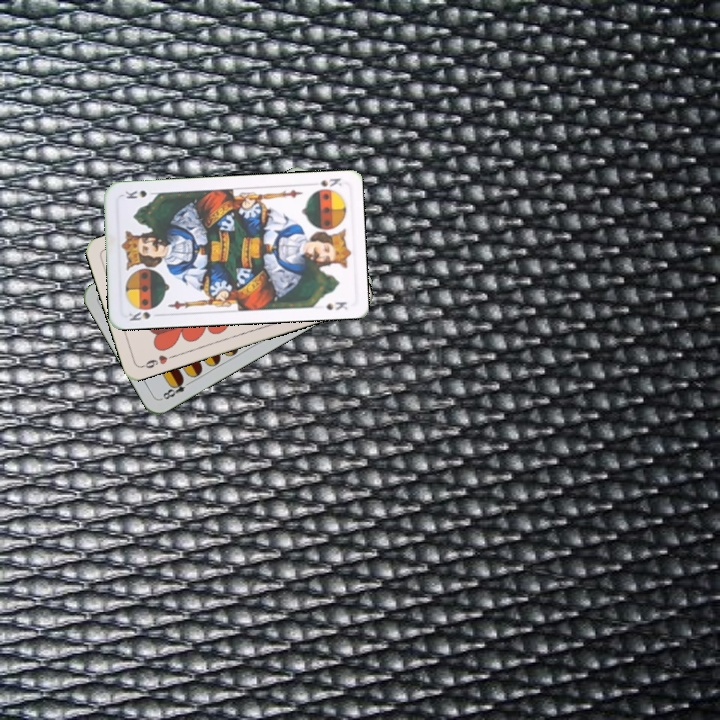E8: (157, 375, 195, 402)
H9: (138, 351, 177, 371)
SK: (306, 174, 344, 189), (125, 308, 153, 323)
